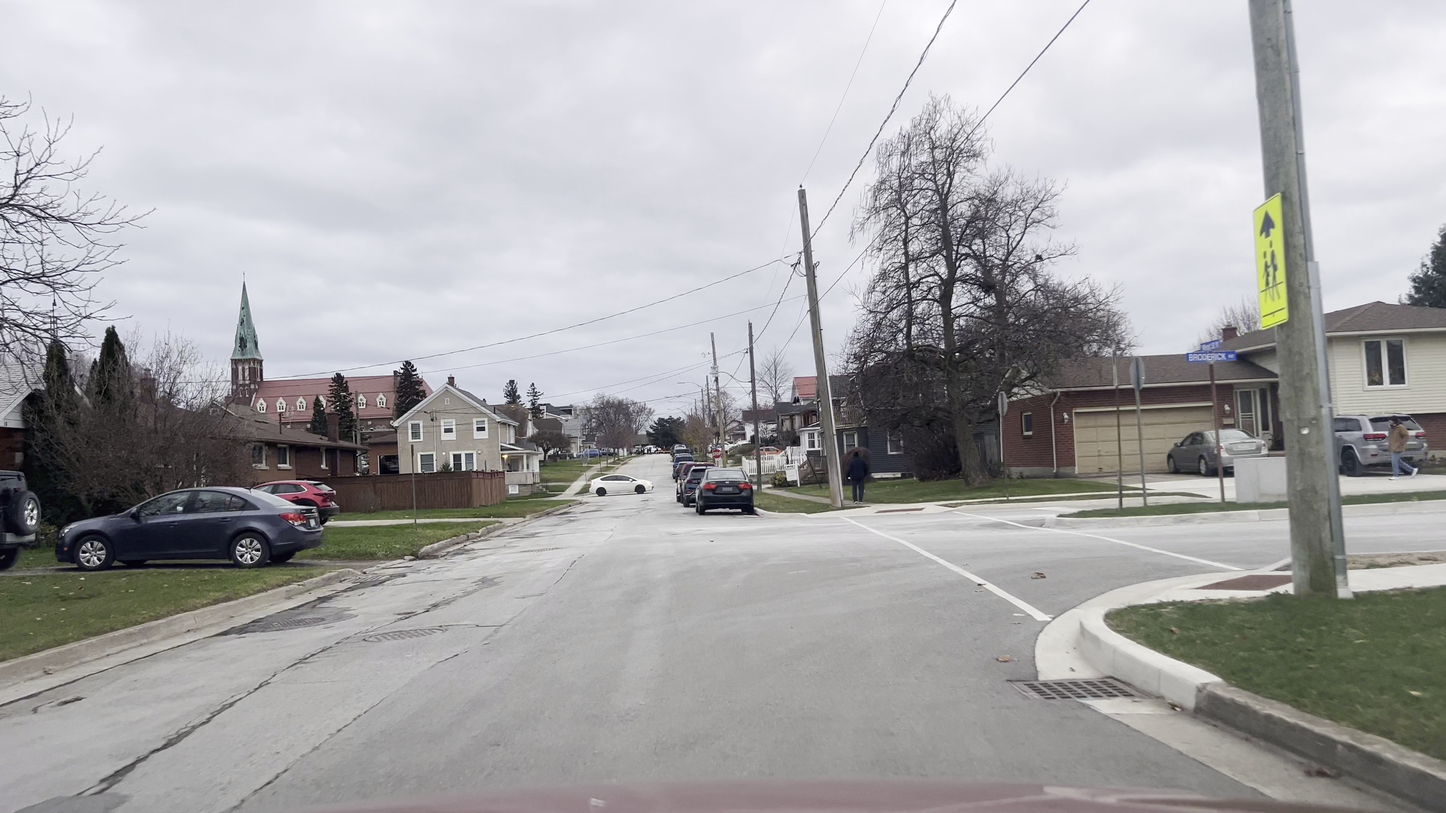cracks: (62, 674, 282, 813), (405, 578, 516, 624), (382, 545, 507, 572)
pothole: (198, 586, 409, 646)
